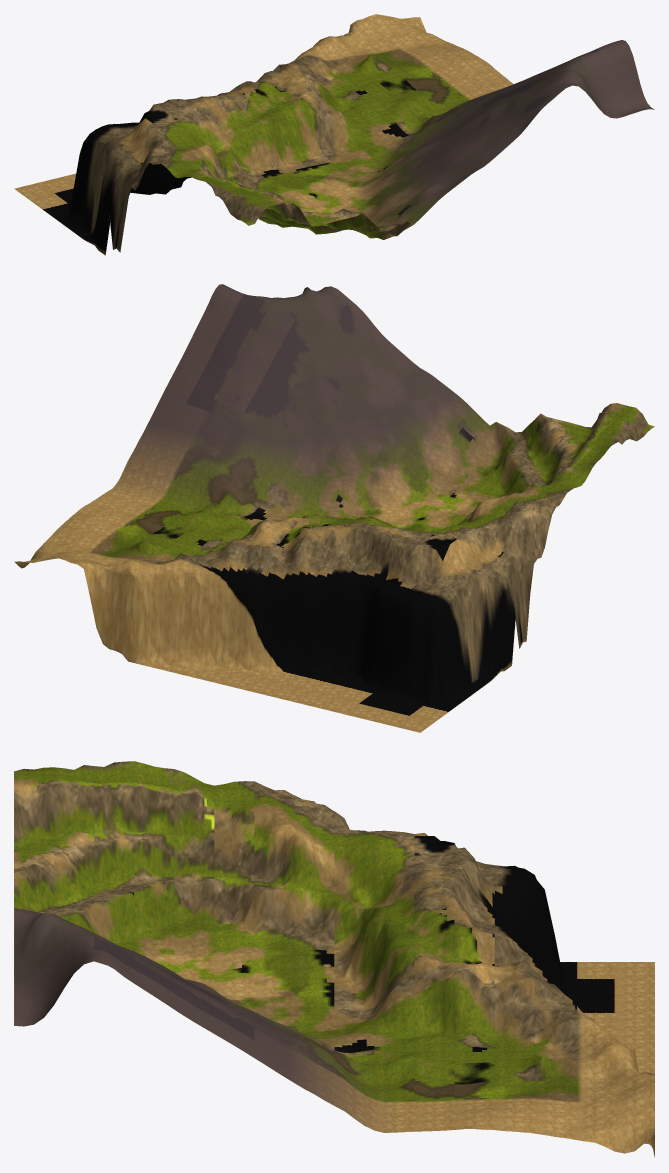
File: terrain.glb
3 renders of one model, top to bottom at view 1: azimuth 30°, elevation 25°; view 2: azimuth 150°, elevation 25°; view 3: azimuth 270°, elevation 25°, orthographic. The views are drawn at different scales.
Visible parts, largest first — view 1: terrain_4_1; view 2: terrain_4_1; view 3: terrain_4_1.
Boxes of the visible parts, x1,y1,x2,y2 form: terrain_4_1: (14, 14, 654, 255); terrain_4_1: (14, 284, 654, 732); terrain_4_1: (14, 761, 654, 1157).
Size of the model in its own units: 512 by 241 by 512.
Materials: 1 (1 with a texture image).
